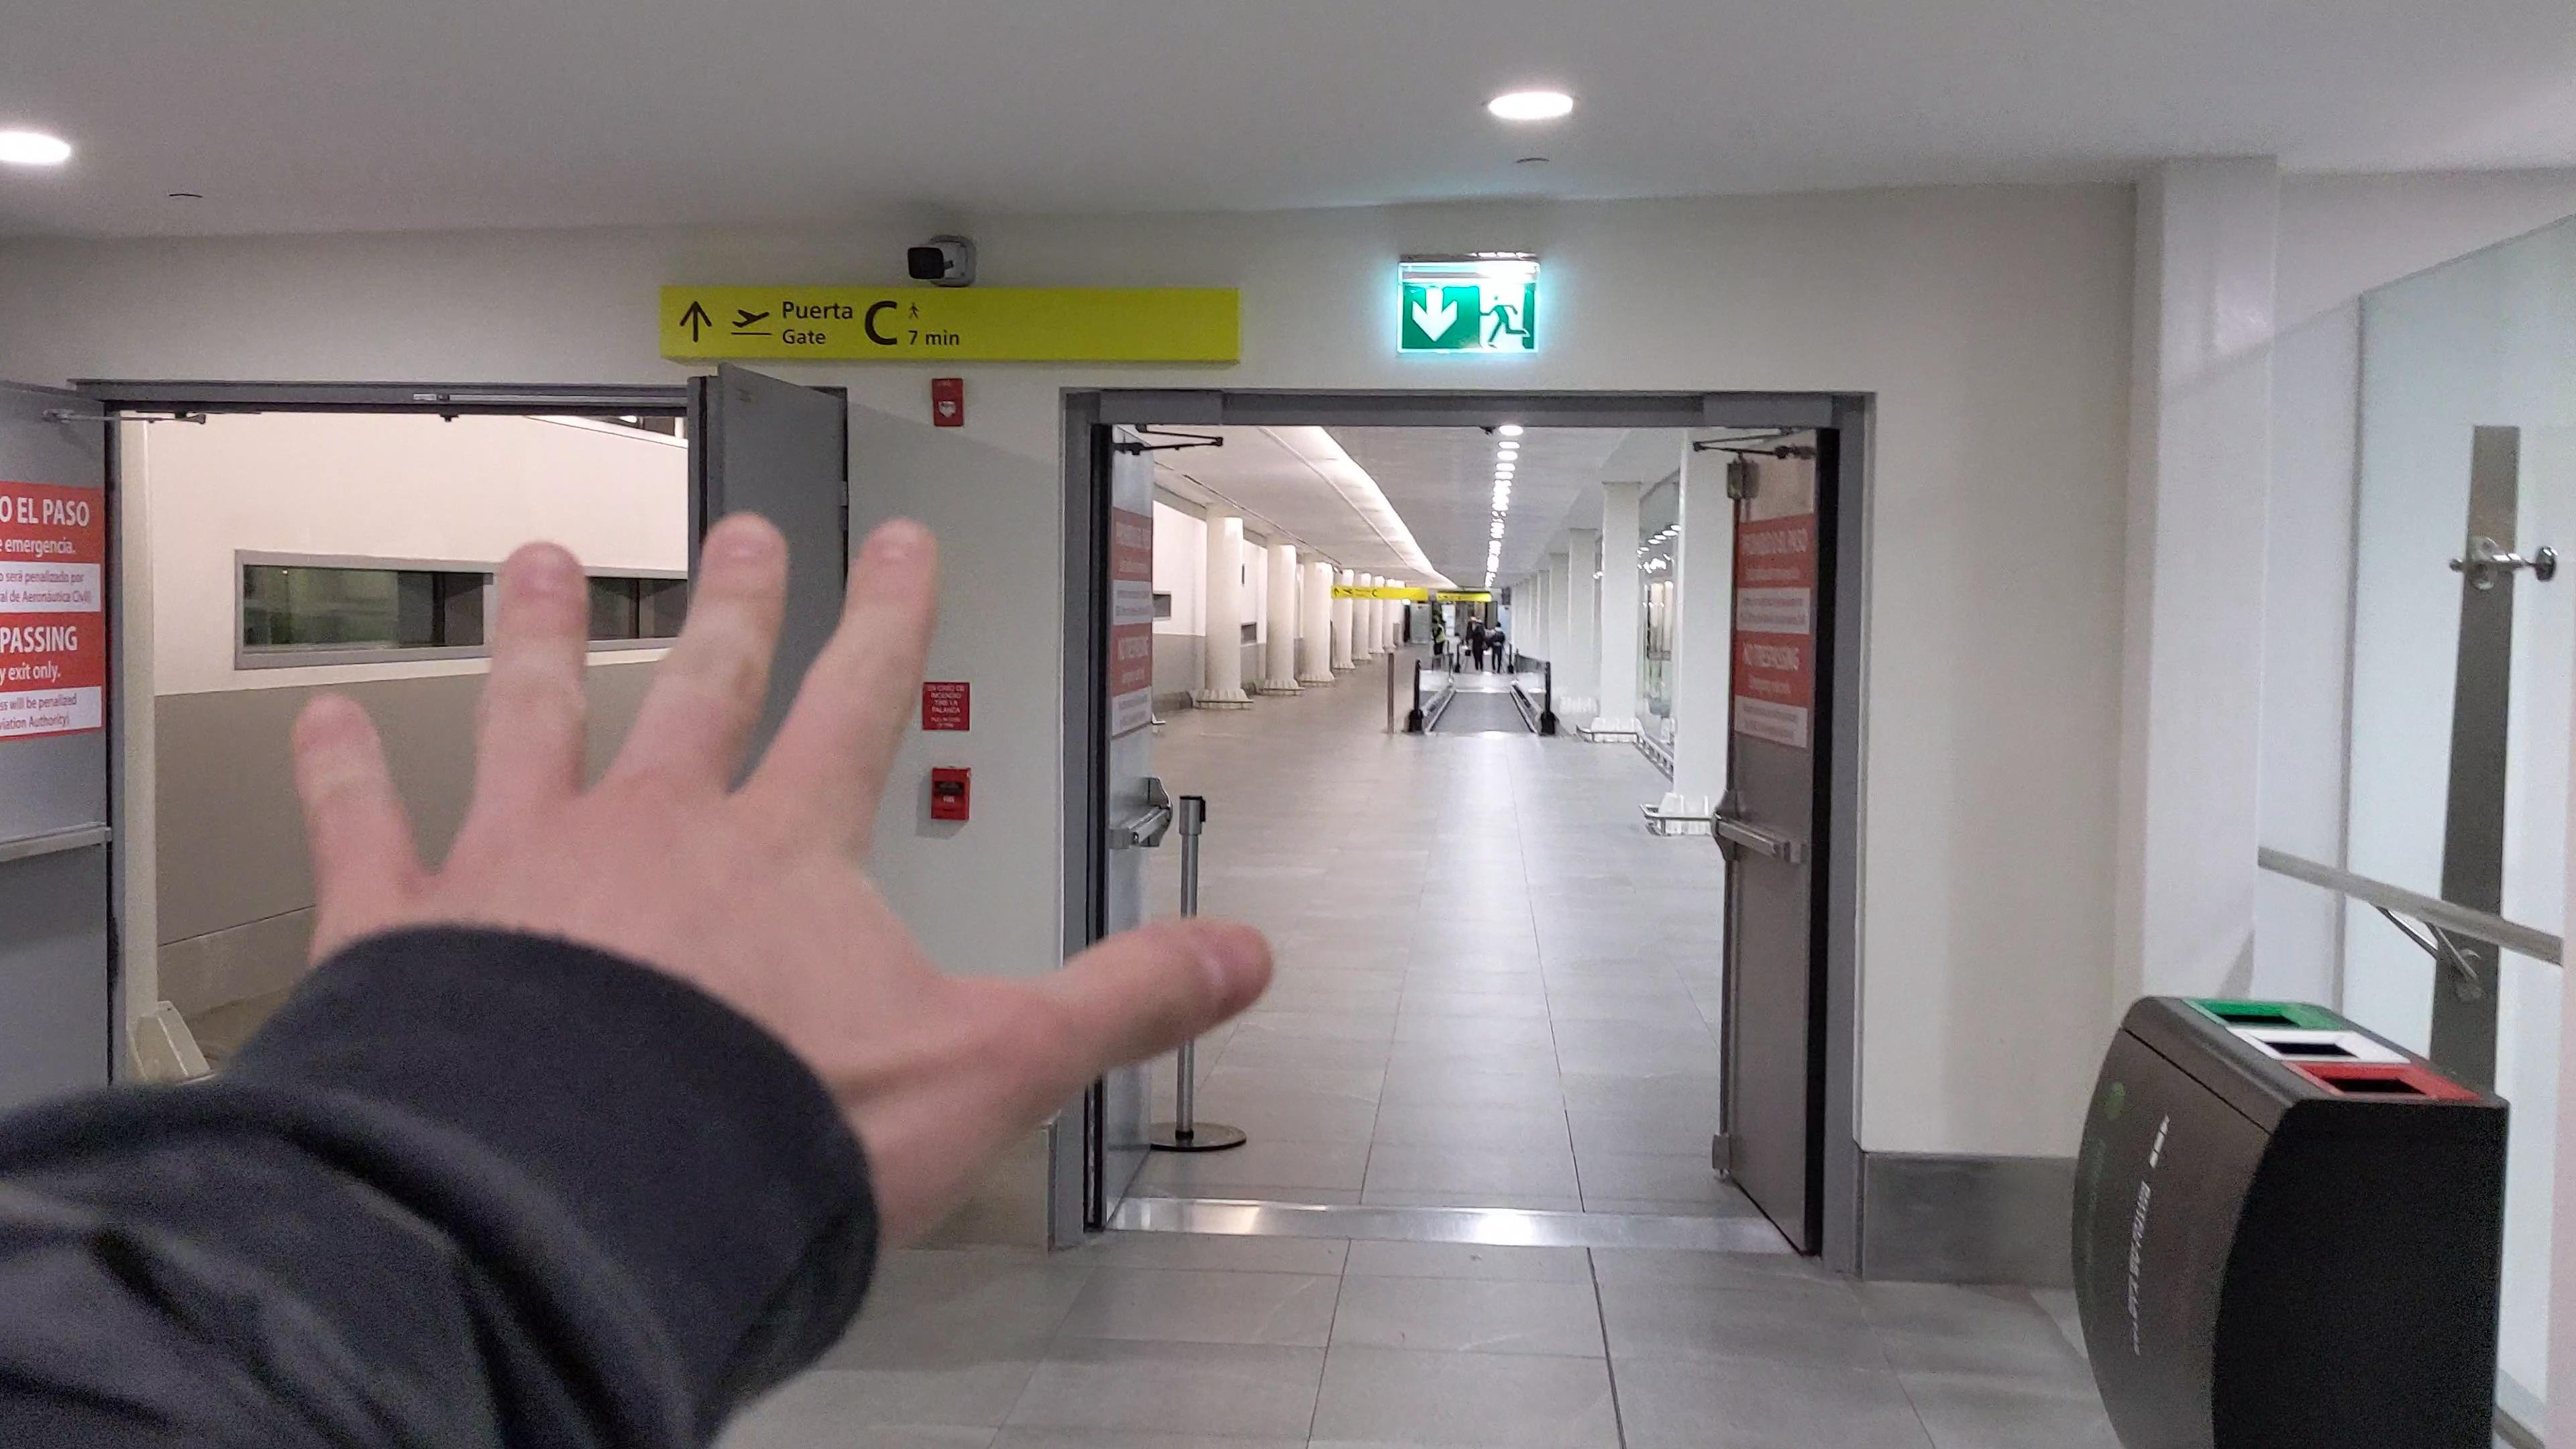airplane symbol: (730, 307, 772, 330), (1342, 587, 1355, 597)
emergency down arrow: (1412, 287, 1459, 342)
emergency exit: (1474, 285, 1532, 352)
no trespassing: (1733, 519, 1817, 755), (1108, 505, 1155, 739)
thin up arrow: (677, 299, 714, 345), (1332, 587, 1341, 597)
